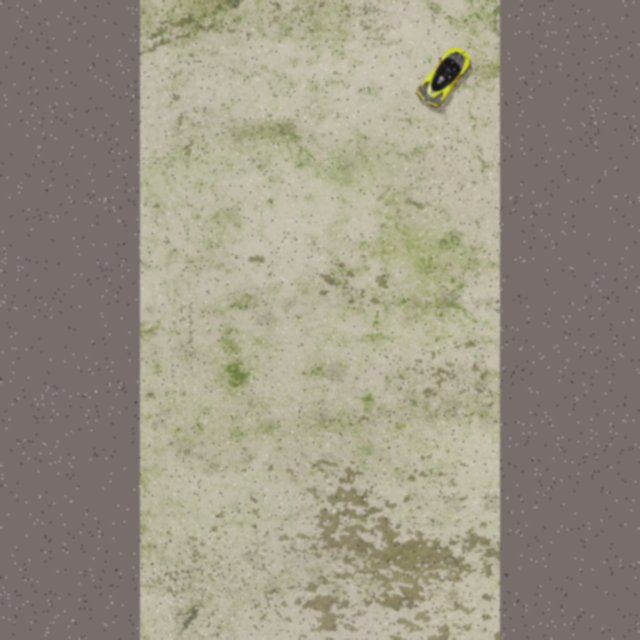car: (411, 36, 478, 114)
